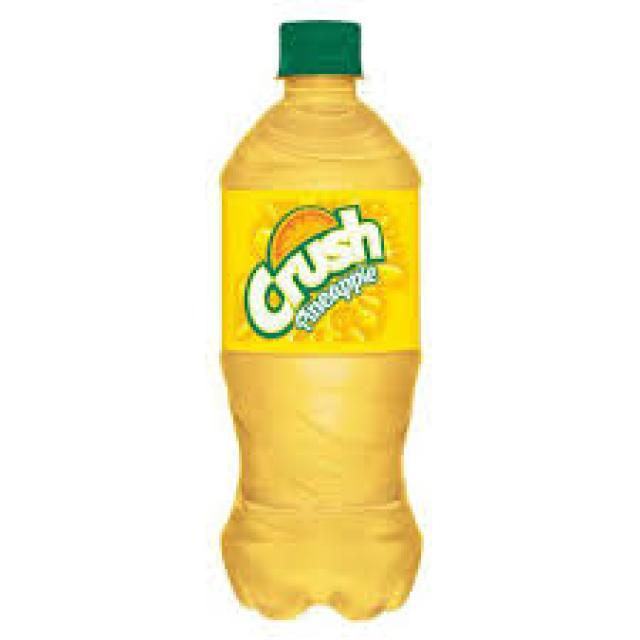plastic: (219, 17, 421, 617), (273, 17, 361, 83)
